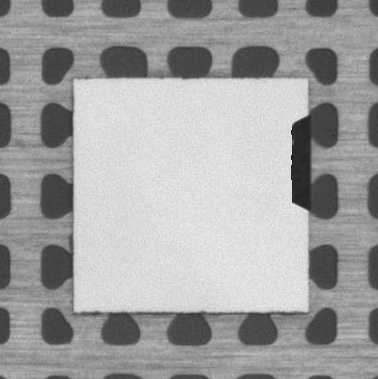DIE_BROKEN: (287, 114, 313, 213)
